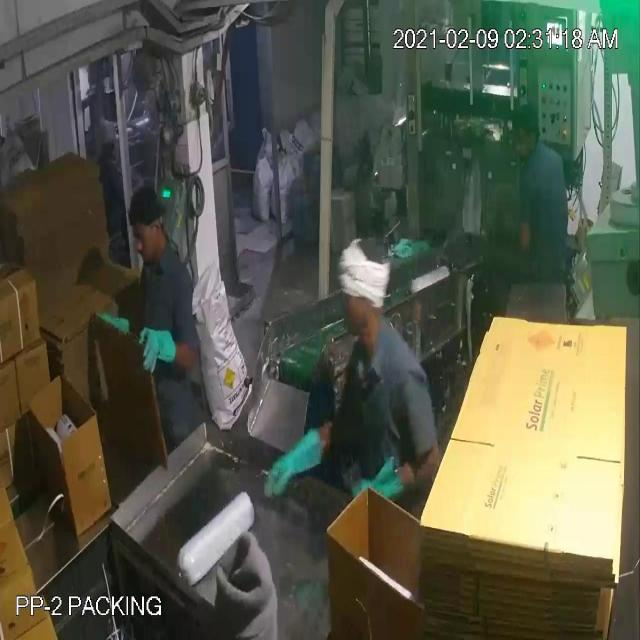Gloves: (54, 72, 378, 496)
